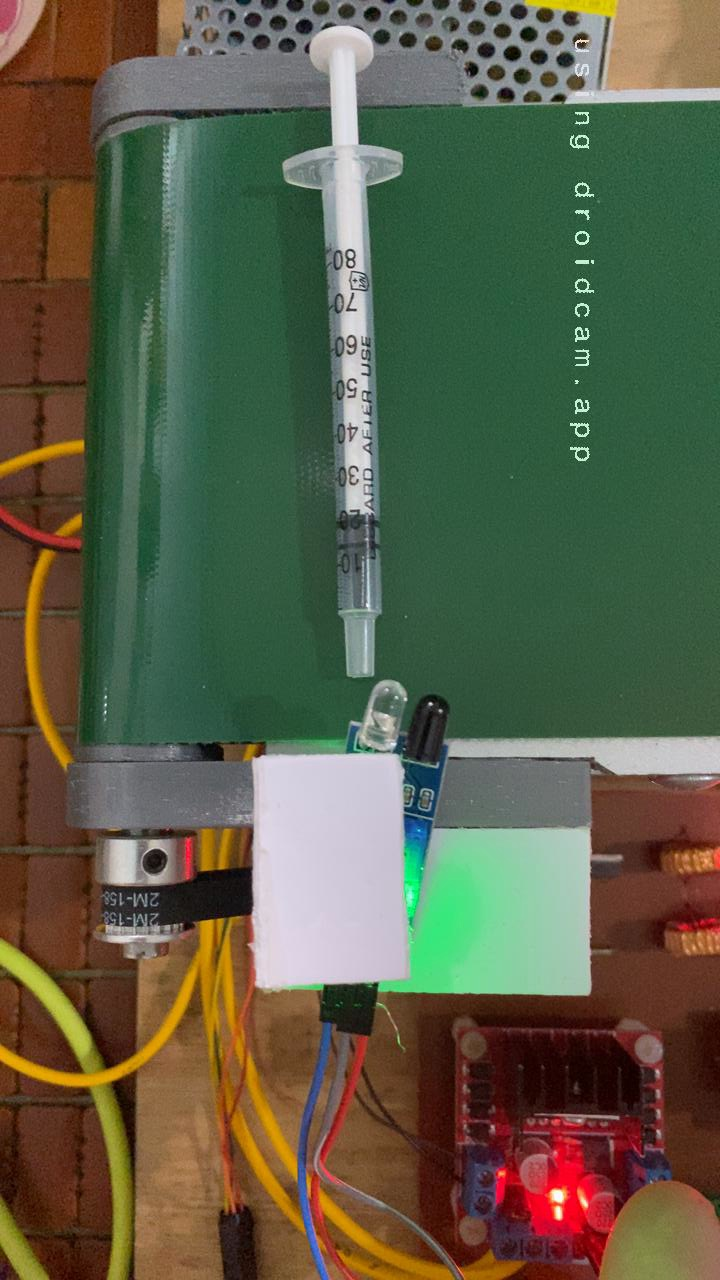syringe: (0, 105, 303, 738)
